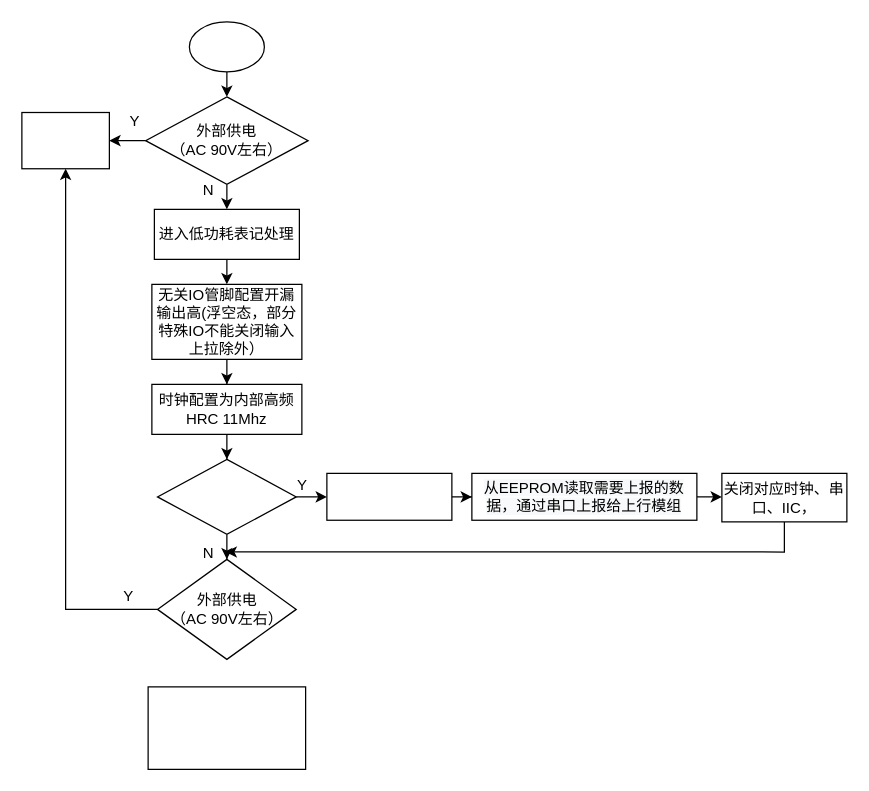
Image size: 869x791. Some labels were removed from this diagram. The shapes that lost their labels are listed below. From the top down, each one's box as (x1, y1, x2, y2) in pixels, then its label:
(188, 21, 264, 72): 开始
(21, 111, 109, 169): 进入正常表记处理
(156, 458, 296, 534): 需要掉电 主动上报
(326, 472, 452, 520): 使能对应时钟、串口、IIC，
